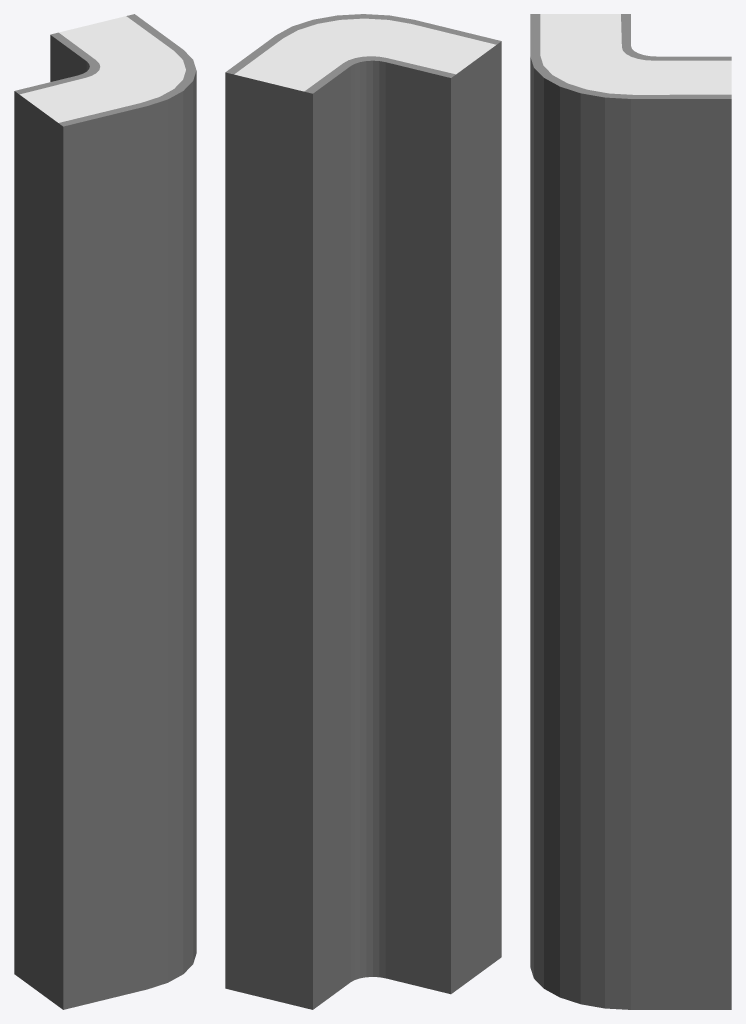
File: turnchunk.fbx
The picture shows the model from 3 angles, left to right: view 1: azimuth 30°, elevation 25°; view 2: azimuth 150°, elevation 25°; view 3: azimuth 270°, elevation 25°; orthographic projection. The views are drawn at different scales.
Parts seen in each view (by area): view 1: turnchunk; view 2: turnchunk; view 3: turnchunk.
Boxes of the visible parts, box(x1,y1,x2,y2) form: turnchunk: box(14, 14, 196, 1009); turnchunk: box(225, 14, 501, 1009); turnchunk: box(530, 14, 731, 1009).
Bounding box in the file's own units: 100 × 100 × 500.
